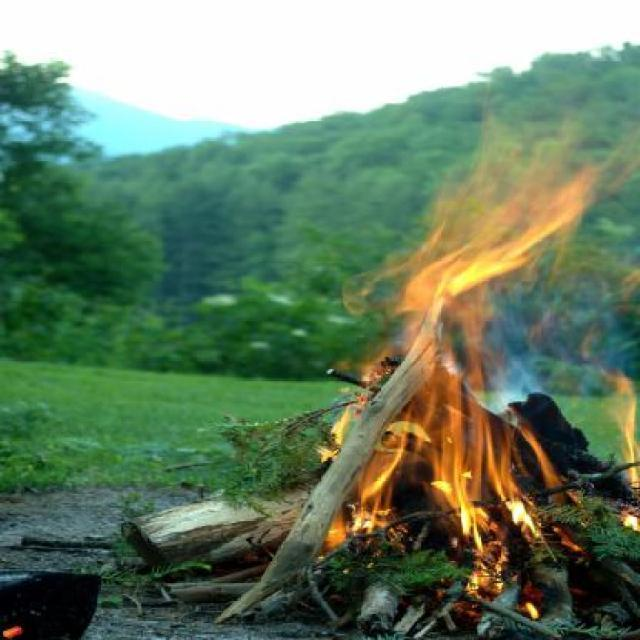fire: (349, 278, 516, 535)
